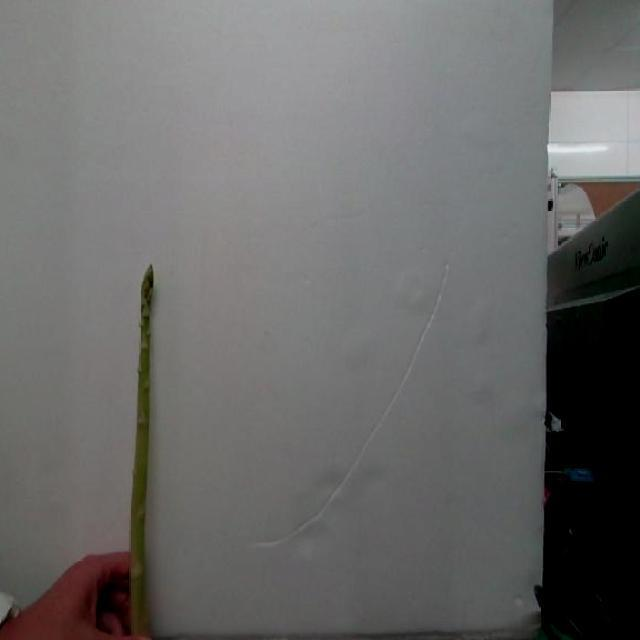aspargus: (127, 268, 156, 640)
